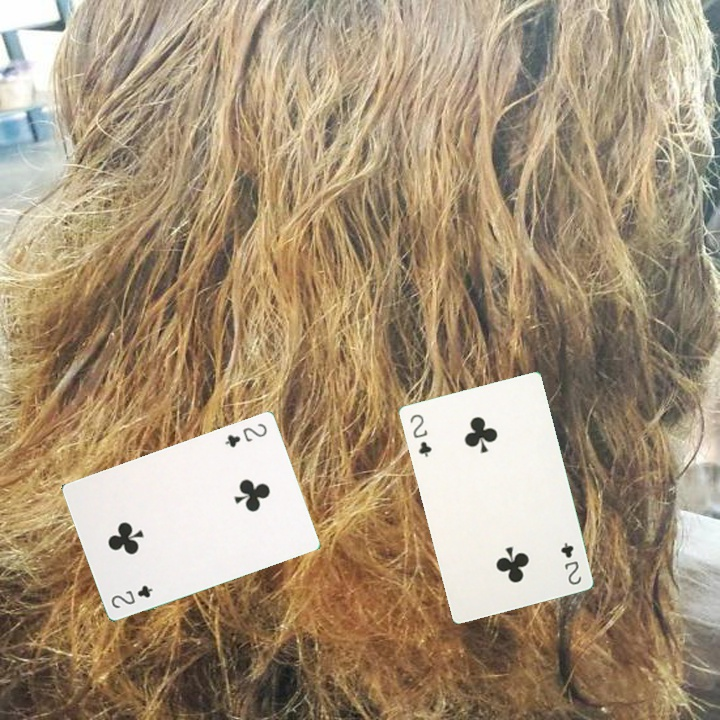2c: (221, 419, 270, 450), (107, 581, 155, 611), (406, 410, 434, 460), (556, 538, 584, 588)
